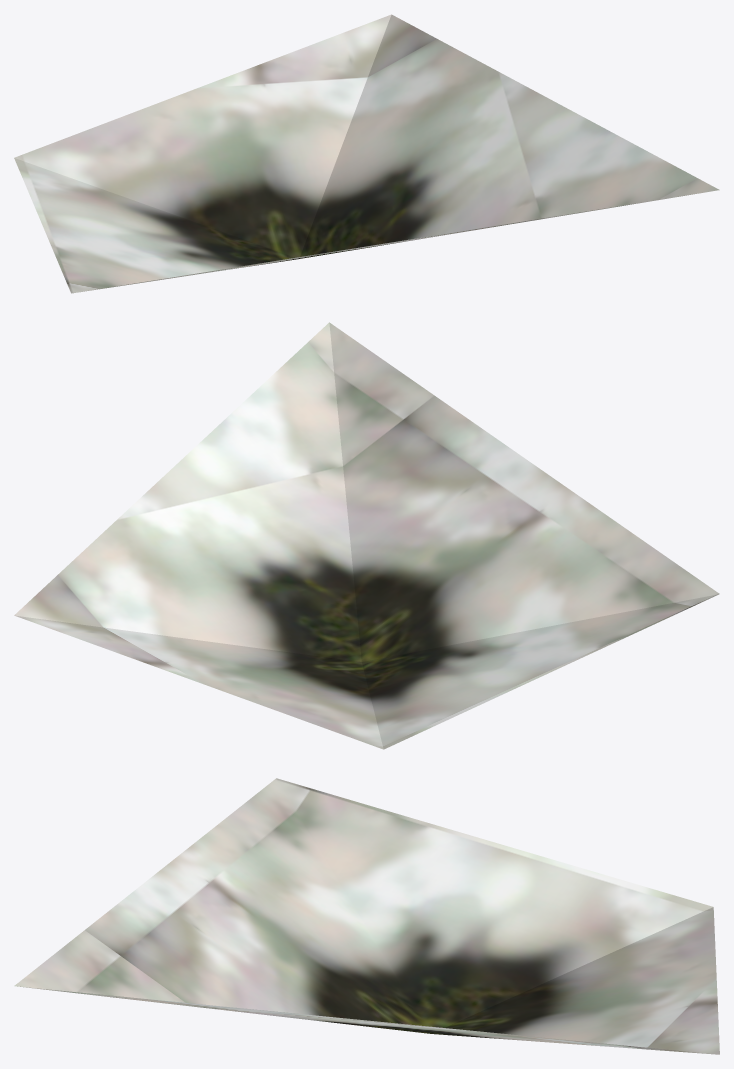
File: TheOctagon_Floor_1_RoofR_1.gltf
3 renders of one model, top to bottom at view 1: azimuth 30°, elevation 25°; view 2: azimuth 150°, elevation 25°; view 3: azimuth 270°, elevation 25°, orthographic. The views are drawn at different scales.
Parts seen in each view (by area): view 1: TheOctagon_Floor_1_RoofR_1; view 2: TheOctagon_Floor_1_RoofR_1; view 3: TheOctagon_Floor_1_RoofR_1.
Boxes of the visible parts, box(x1,y1,x2,y2) form: TheOctagon_Floor_1_RoofR_1: box(14, 14, 719, 293); TheOctagon_Floor_1_RoofR_1: box(14, 322, 719, 749); TheOctagon_Floor_1_RoofR_1: box(14, 778, 719, 1054).
Size of the model in its own units: 9.05 by 2.55 by 9.75.
1 material, 1 textured.
